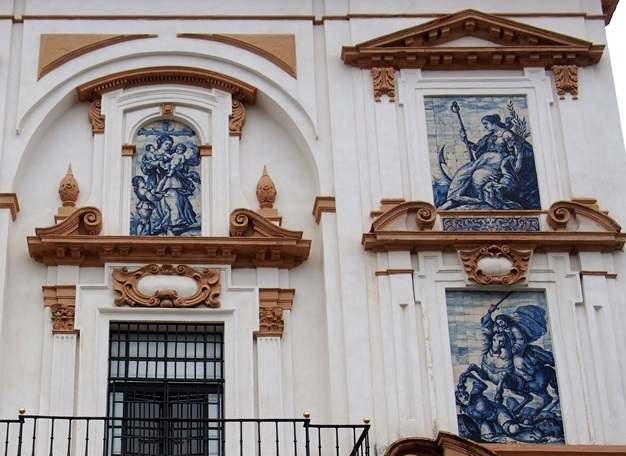fronton: (342, 7, 600, 72)
fronton-partido: (23, 203, 314, 272), (357, 197, 626, 255)
vano-adintelado: (74, 279, 263, 456)
